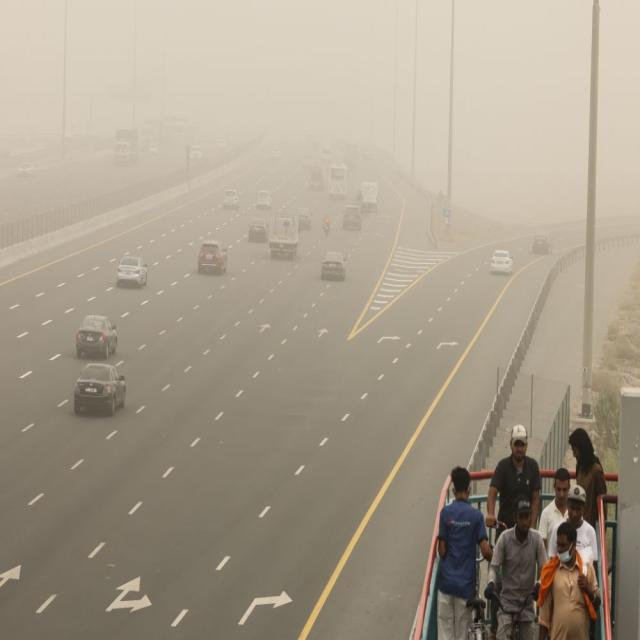moderate_traffic: (0, 85, 535, 452)
